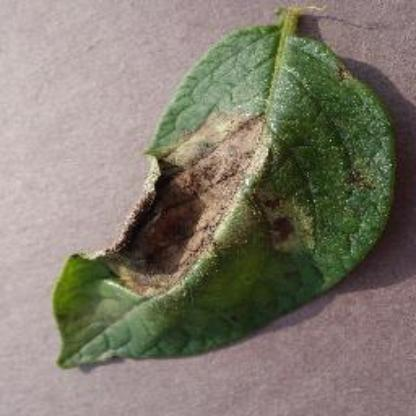Late-Blight: (32, 5, 402, 390)
